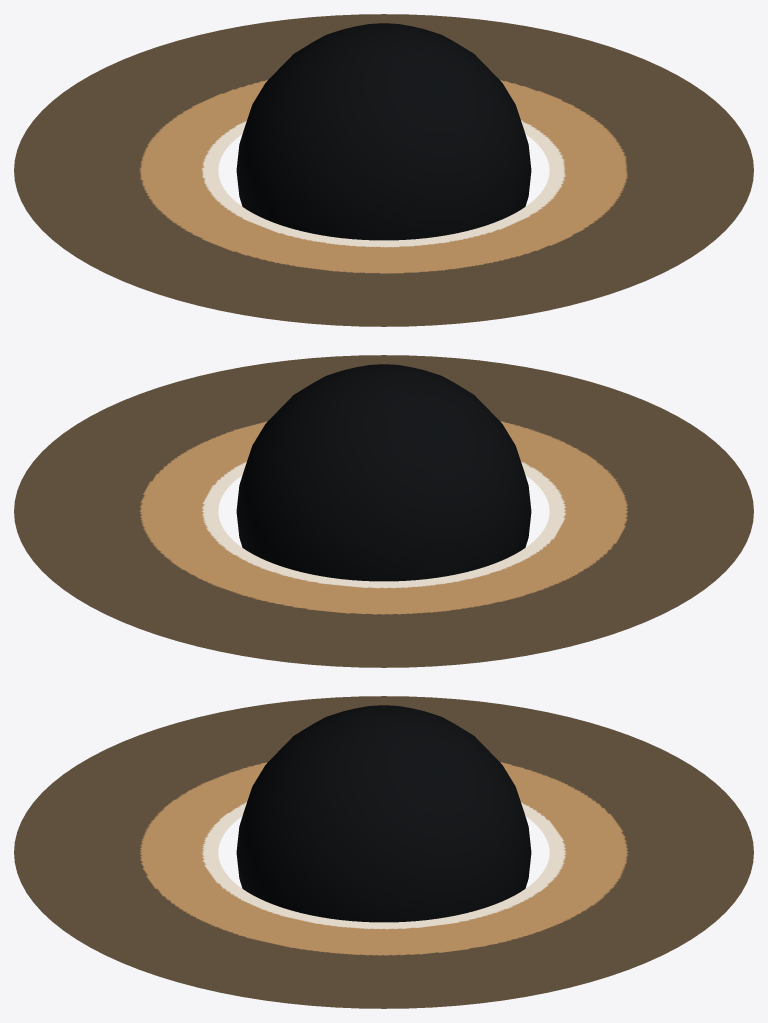
The model's file is black_hole.glb.
The picture shows the model from 3 angles, top to bottom: view 1: azimuth 30°, elevation 25°; view 2: azimuth 150°, elevation 25°; view 3: azimuth 270°, elevation 25°; orthographic projection.
Parts seen in each view (by area): view 1: black_hole_textured_mesh; view 2: black_hole_textured_mesh; view 3: black_hole_textured_mesh.
Part boxes in pixels (<box>): black_hole_textured_mesh: <box>14,14,753,326</box>; black_hole_textured_mesh: <box>14,355,753,667</box>; black_hole_textured_mesh: <box>14,696,753,1008</box>.
Bounding box in the file's own units: 2.86 × 1.14 × 2.86.
Materials: 1 (1 with a texture image).
